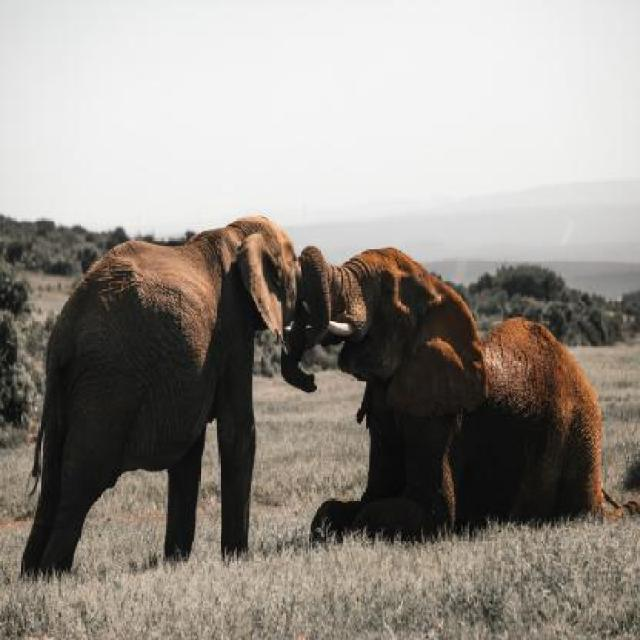Elephant: (8, 205, 326, 589), (297, 225, 640, 578)
